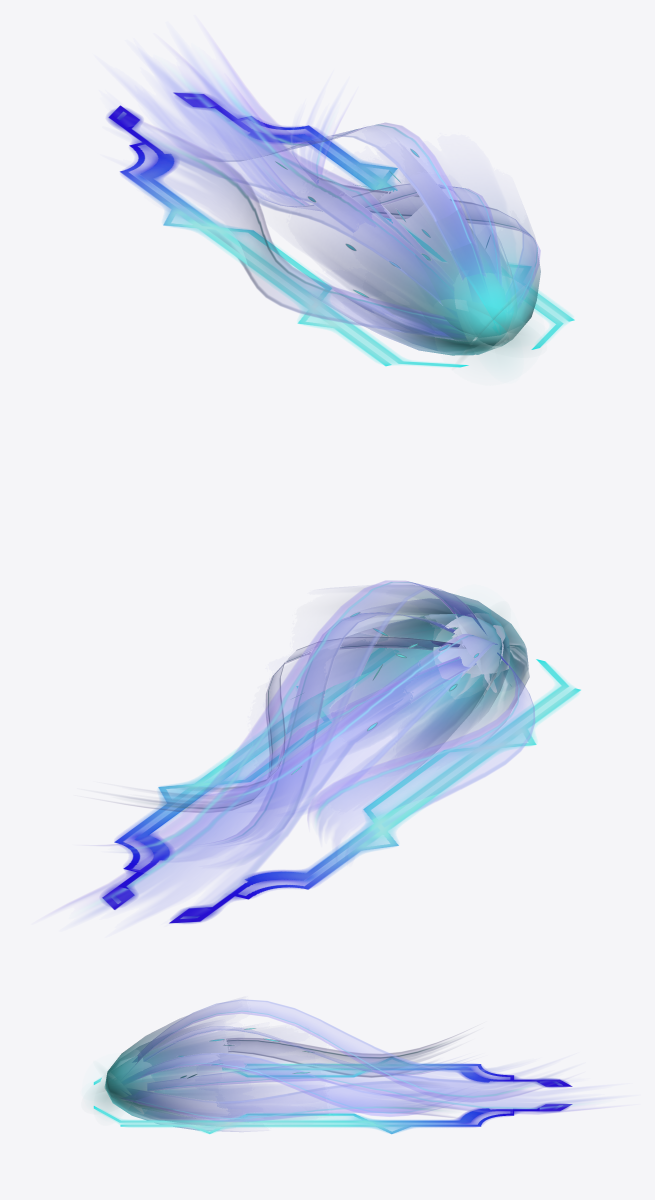
File: beam_1.glb
The picture shows the model from 3 angles, top to bottom: view 1: azimuth 30°, elevation 25°; view 2: azimuth 150°, elevation 25°; view 3: azimuth 270°, elevation 25°; orthographic projection. The views are drawn at different scales.
Parts seen in each view (by area): view 1: pPlane29, pSphere3, pPlane1, pPlane14, pSphere2, pSphere1, pPlane13; view 2: pPlane29, pPlane1, pPlane14, pSphere1, pSphere3, pSphere2; view 3: pPlane29, pPlane1, pSphere1, pPlane14, pSphere3, pSphere2, pPlane13.
Part boxes in pixels (<box>): pPlane29: <box>134,43,540,339</box>; pSphere3: <box>341,194,540,355</box>; pPlane1: <box>107,92,574,367</box>; pPlane14: <box>122,54,437,265</box>; pSphere2: <box>408,234,515,354</box>; pSphere1: <box>336,227,496,341</box>; pPlane13: <box>459,296,537,371</box>; pPlane29: <box>96,580,534,865</box>; pPlane1: <box>101,648,580,923</box>; pPlane14: <box>55,656,476,918</box>; pSphere1: <box>342,614,501,757</box>; pSphere3: <box>352,585,529,741</box>; pSphere2: <box>382,598,510,724</box>; pPlane29: <box>122,999,557,1121</box>; pPlane1: <box>93,1057,572,1134</box>; pSphere1: <box>118,1033,279,1117</box>; pPlane14: <box>147,1063,606,1114</box>; pSphere3: <box>104,1010,235,1131</box>; pSphere2: <box>104,1028,194,1119</box>; pPlane13: <box>87,1065,124,1114</box>.
Bounding box in the file's own units: 0.0177 × 0.0149 × 0.0514.
Materials: 3 (3 with a texture image).
